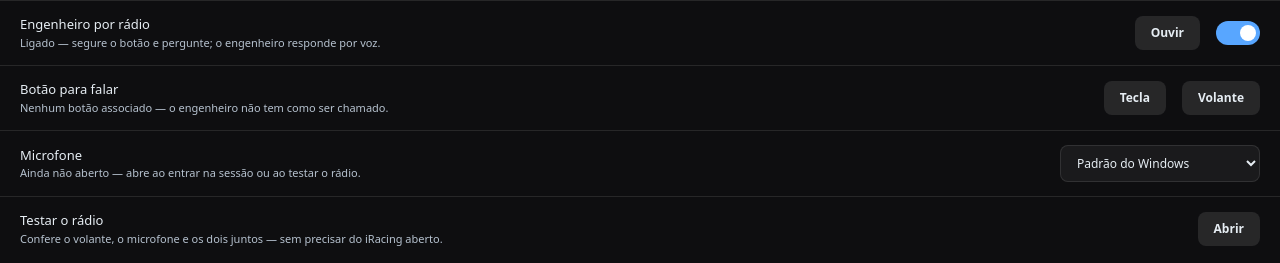
Test: bloco do engenheiro › a tecla capturada é persistida e mostrada
Click the button "Tecla".
click(1135, 98)  # box [1104, 81, 1166, 115]
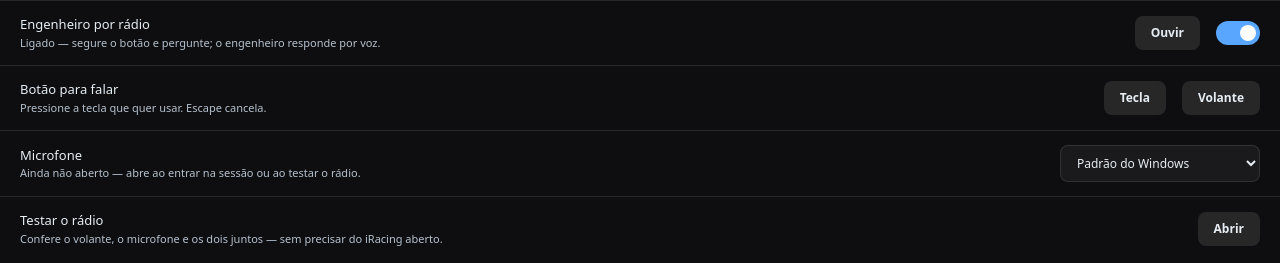
Check: the text "Pressione a tecla que quer usar. Escape cancela." is shown, box [20, 100, 266, 114]
Press F1
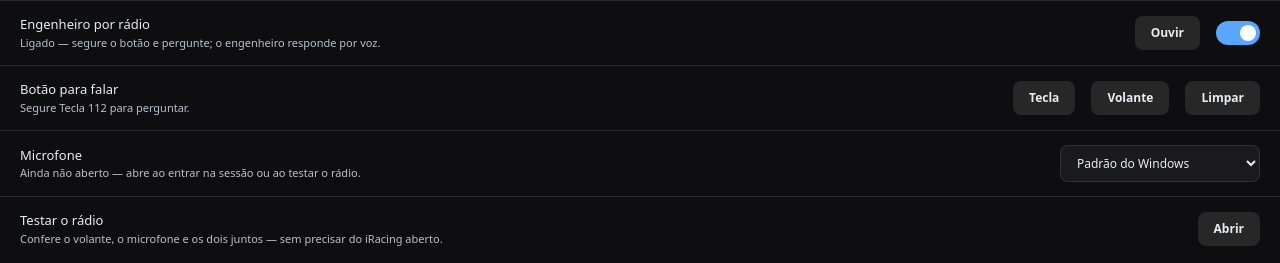
Check: the text "Segure Tecla 112 para perguntar." is shown, box [20, 100, 190, 114]
